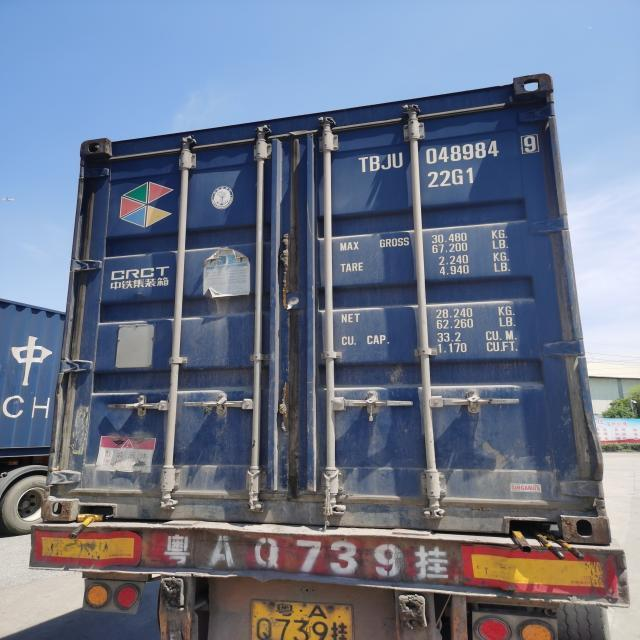ISO: (432, 167, 477, 187)
container_number: (359, 132, 543, 175)
